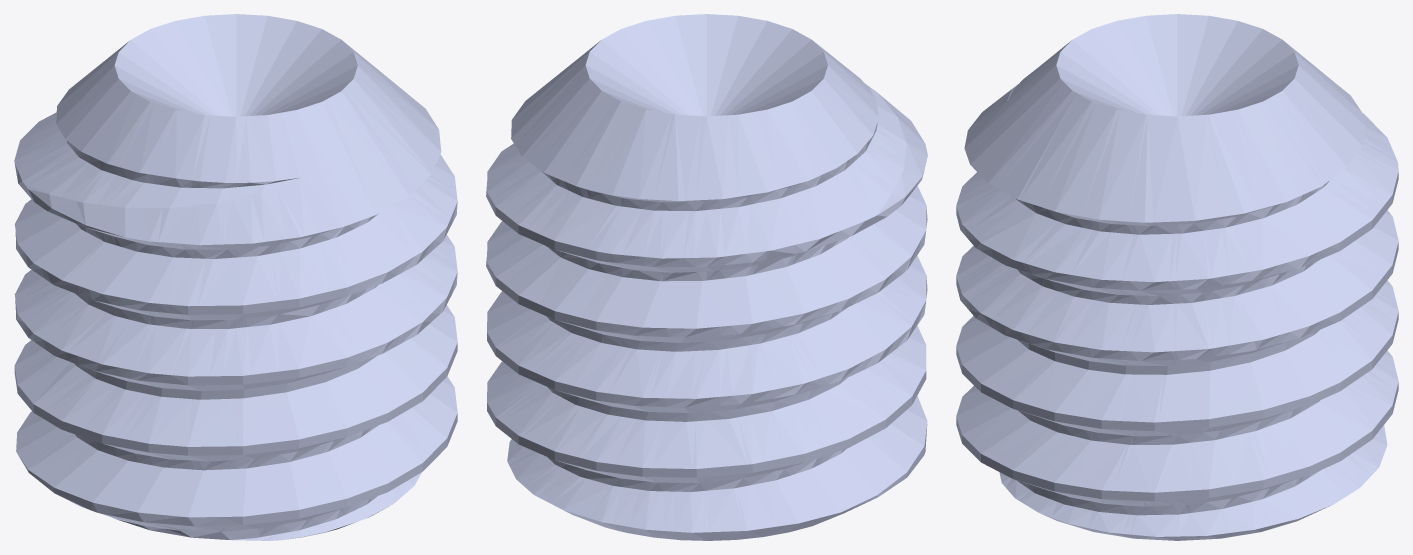
File: T200_04_T200STEP_T200STEPSTEP_T200STEP1_03_T200STEP1.obj
3 renders of one model, left to right at view 1: azimuth 30°, elevation 25°; view 2: azimuth 150°, elevation 25°; view 3: azimuth 270°, elevation 25°, orthographic.
Bounding box in the file's own units: 0.00399 × 0.004 × 0.004.
